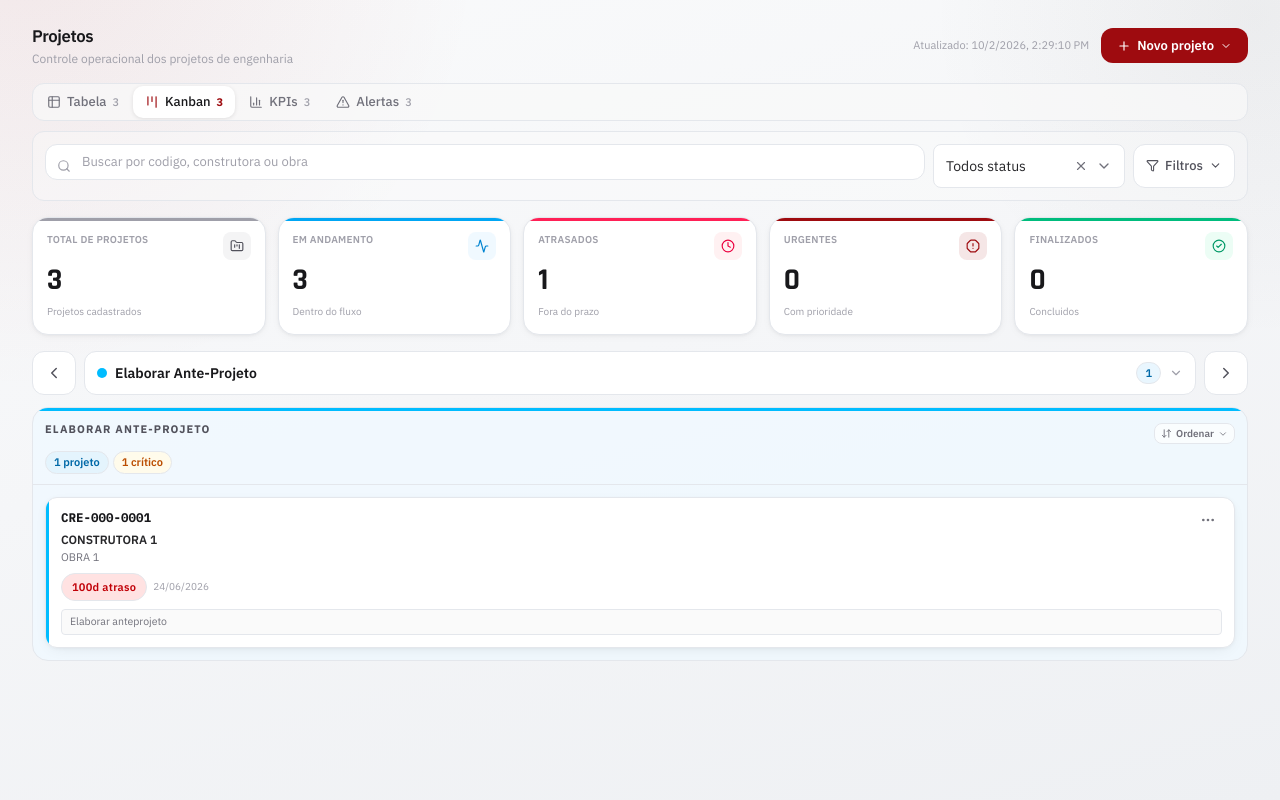
Kanban — só o POST /status sai do navegador › sucesso: sem observação/e-mail pelo cliente (o servidor faz)
Click the button named "Abrir ações de CRE-000-0001": click(1208, 520) [1186,498,1230,542]
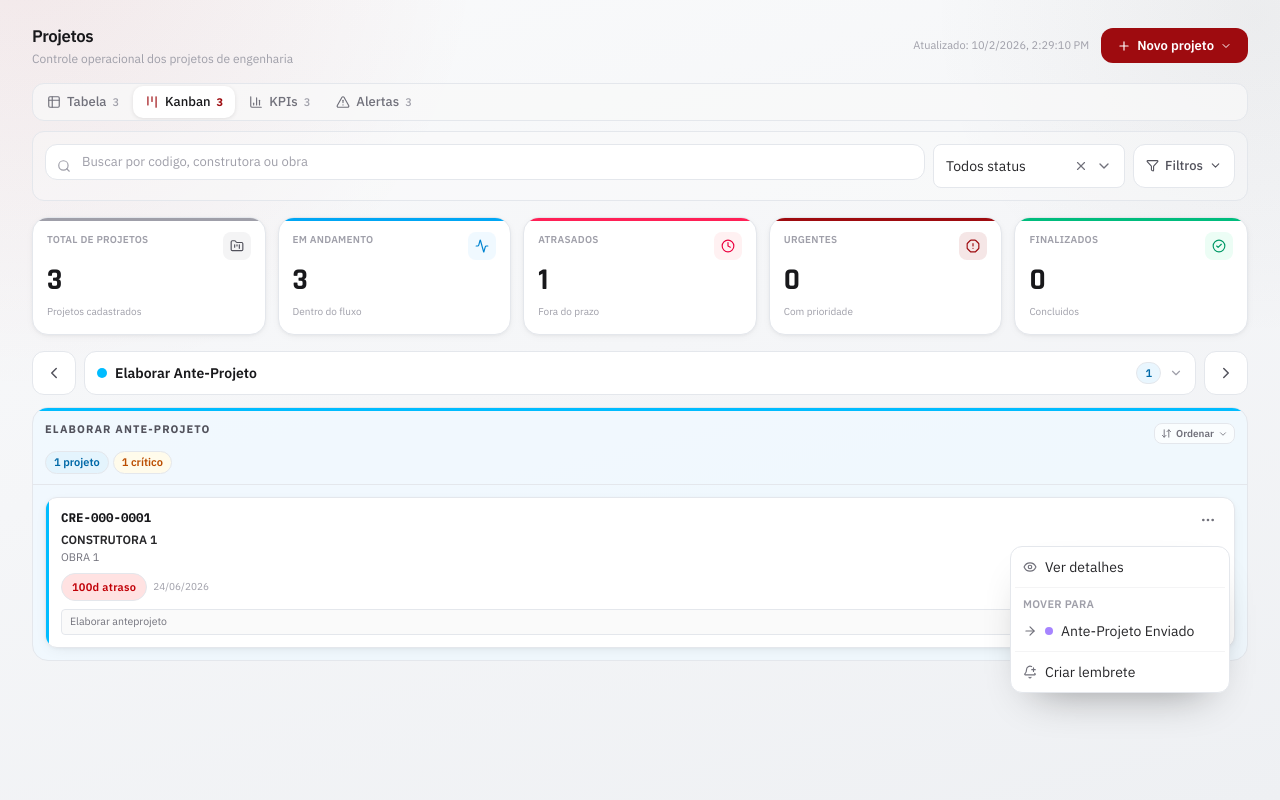
Click the menu item with aria-label "Mover para Ante-Projeto Enviado": click(1109, 630) [1023,622,1194,640]
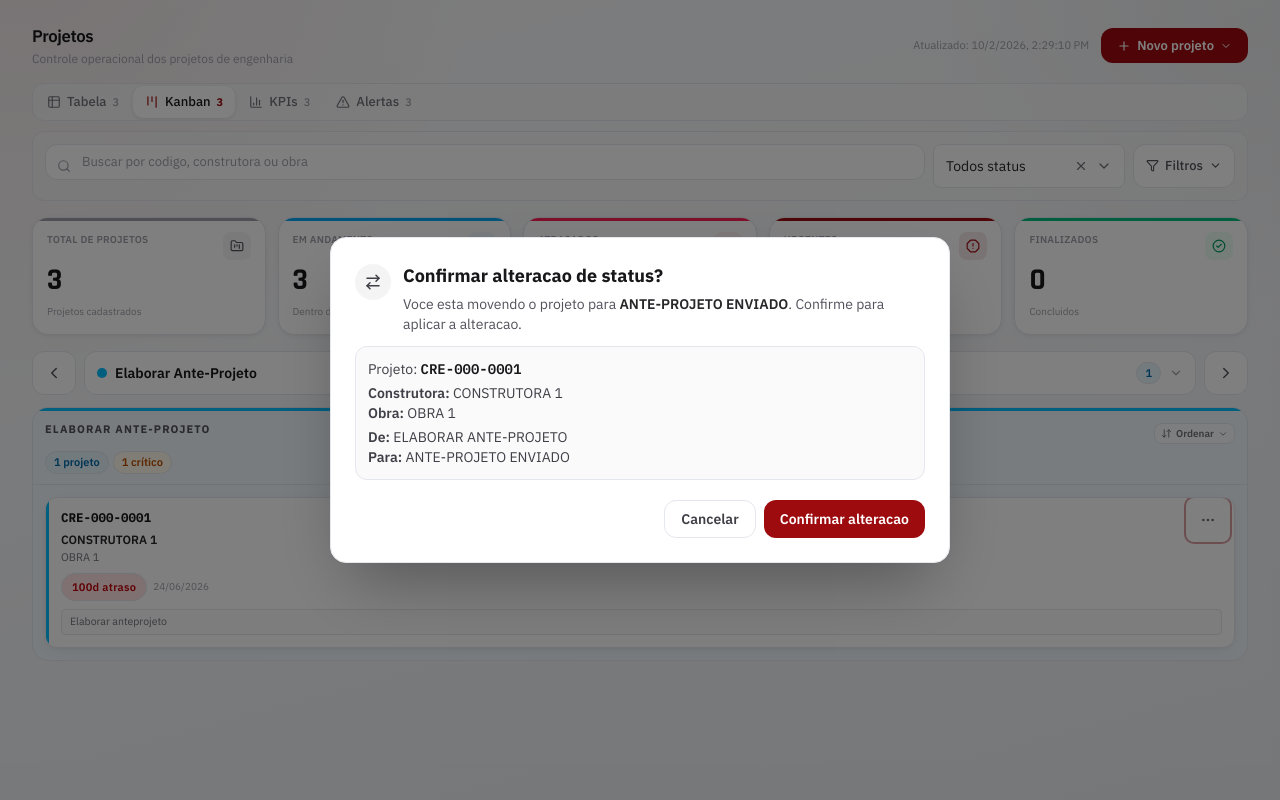
Click the button "Confirmar alteracao": click(844, 519) [764,500,925,538]
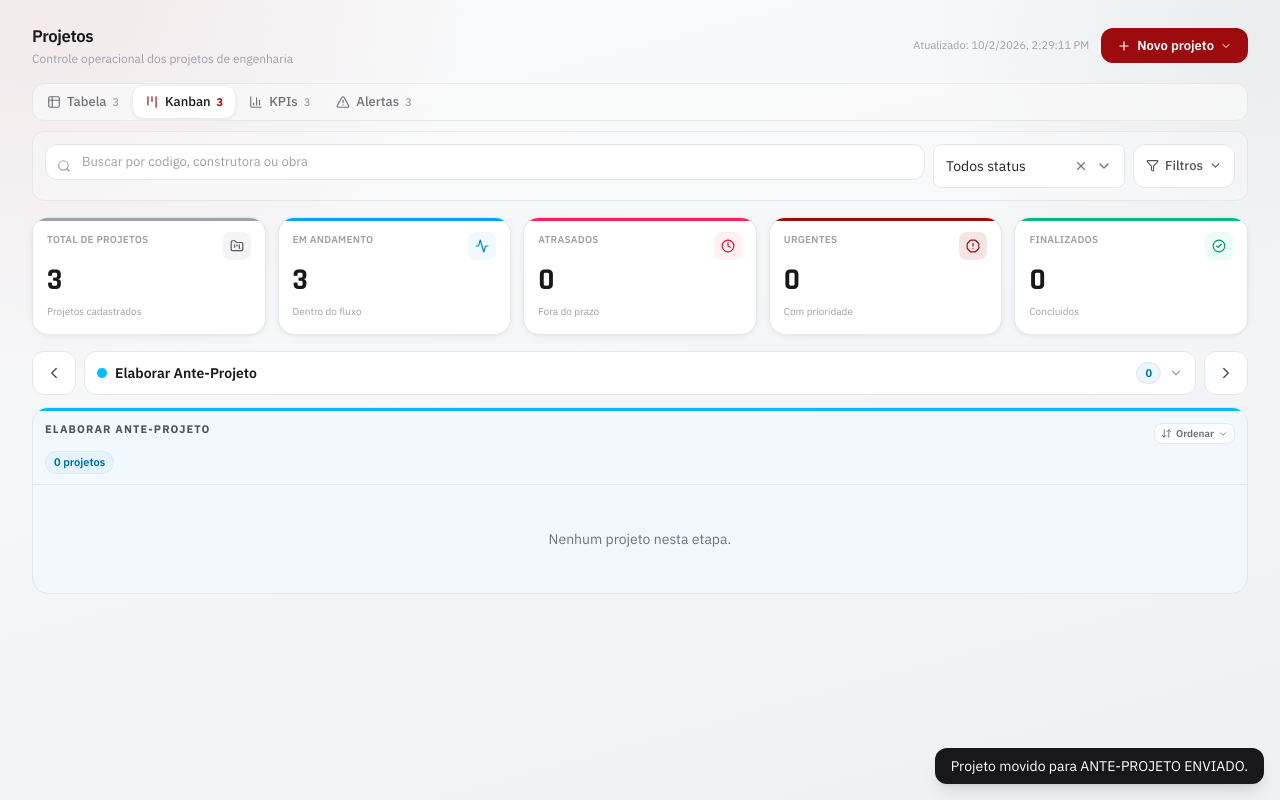
Check: the text "Projeto movido para ANTE-PROJETO ENVIADO." is shown, box [935,748,1264,784]
